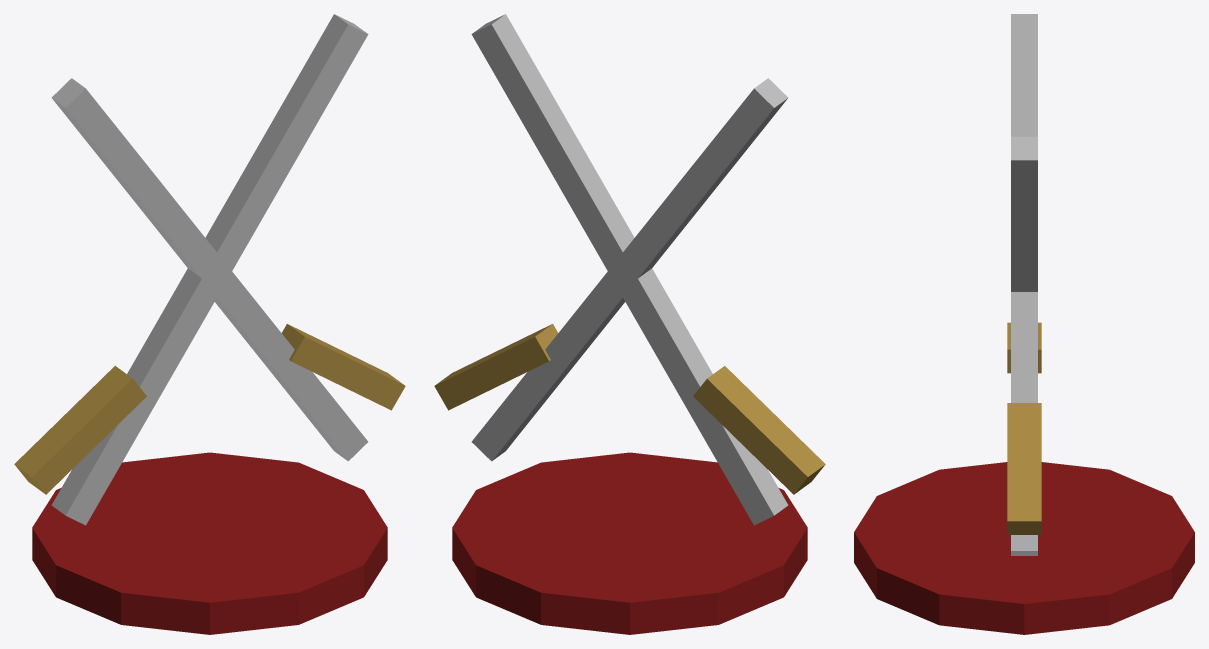
The model's file is battle_marker.glb.
The picture shows the model from 3 angles, left to right: view 1: azimuth 30°, elevation 25°; view 2: azimuth 150°, elevation 25°; view 3: azimuth 270°, elevation 25°; orthographic projection. The views are drawn at different scales.
Visible parts, largest first — view 1: battle_marker; view 2: battle_marker; view 3: battle_marker.
Part boxes in pixels (x1,y1,x2,y2): battle_marker: (14,14,405,634); battle_marker: (434,14,825,634); battle_marker: (854,14,1194,634).
Bounding box in the file's own units: 1.21 × 1.58 × 1.
